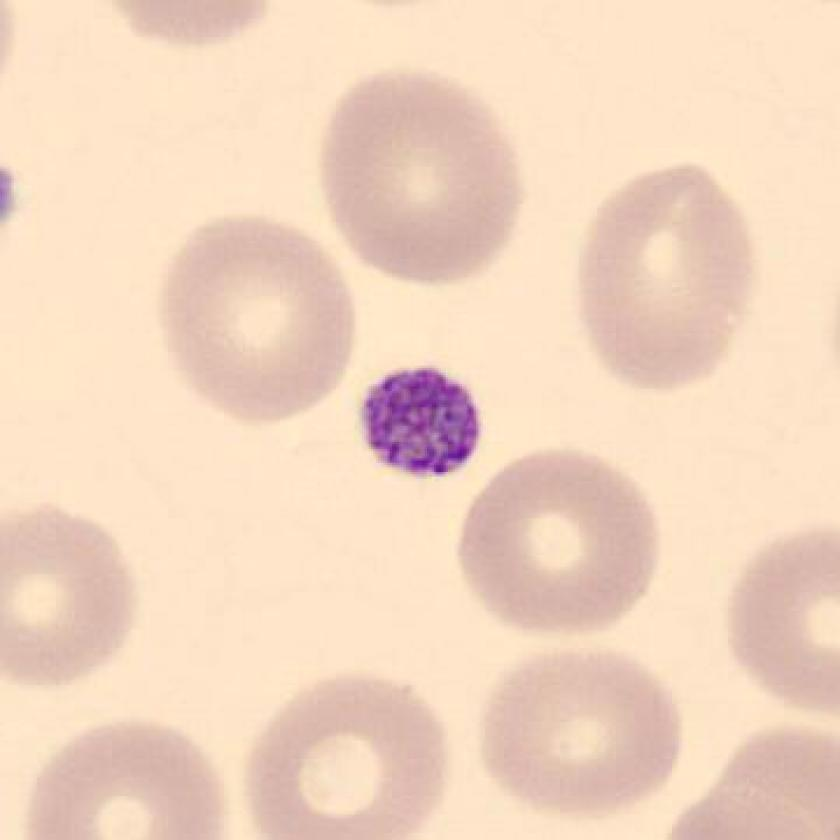platelets: (351, 360, 493, 487)
